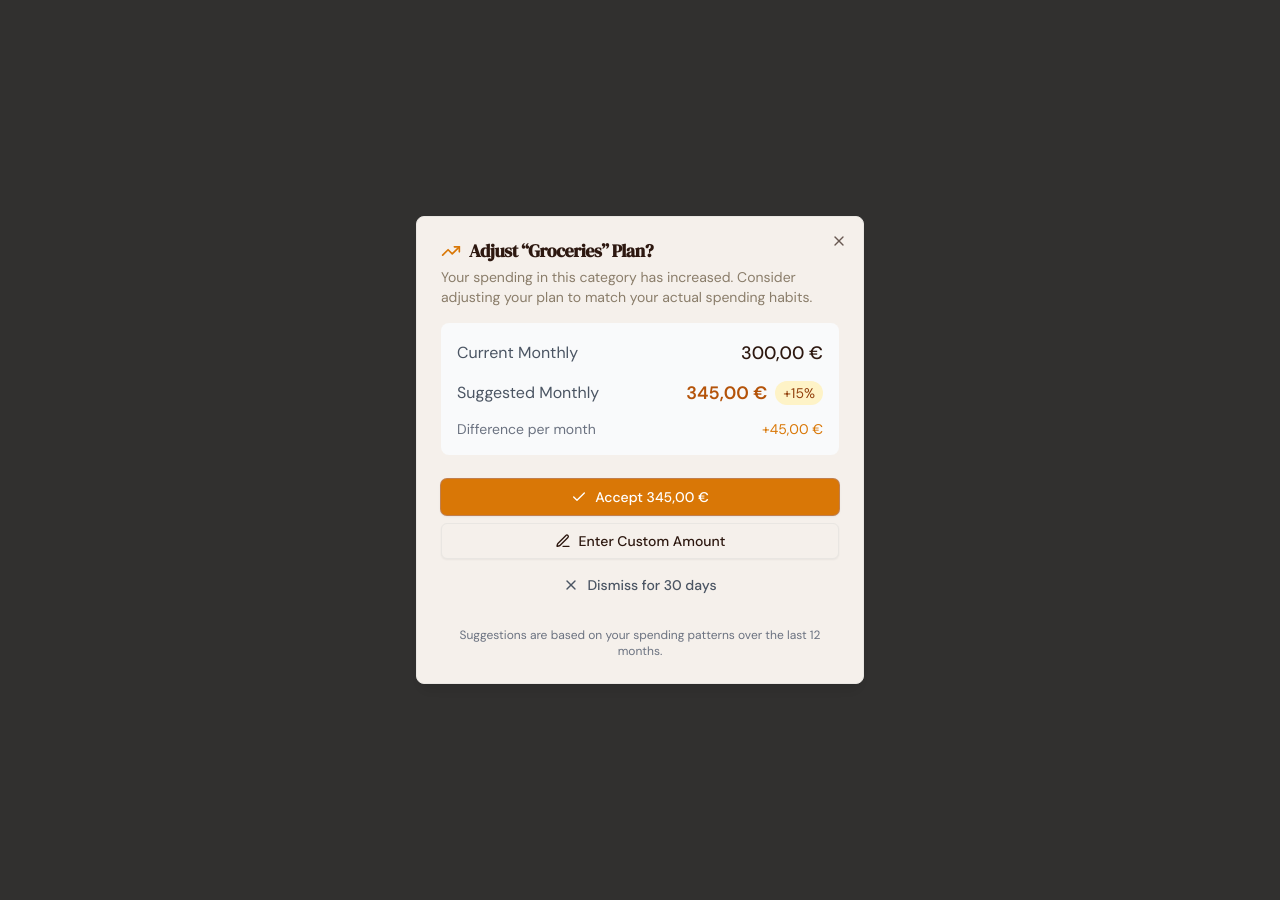
Test case: AdjustmentSuggestionModal › custom amount › should show error for invalid custom amount
This screenshot has width=1280, height=900.
Click the button "Enter Custom Amount" at (640, 541), box top-left (441, 523), bottom-right (839, 559)
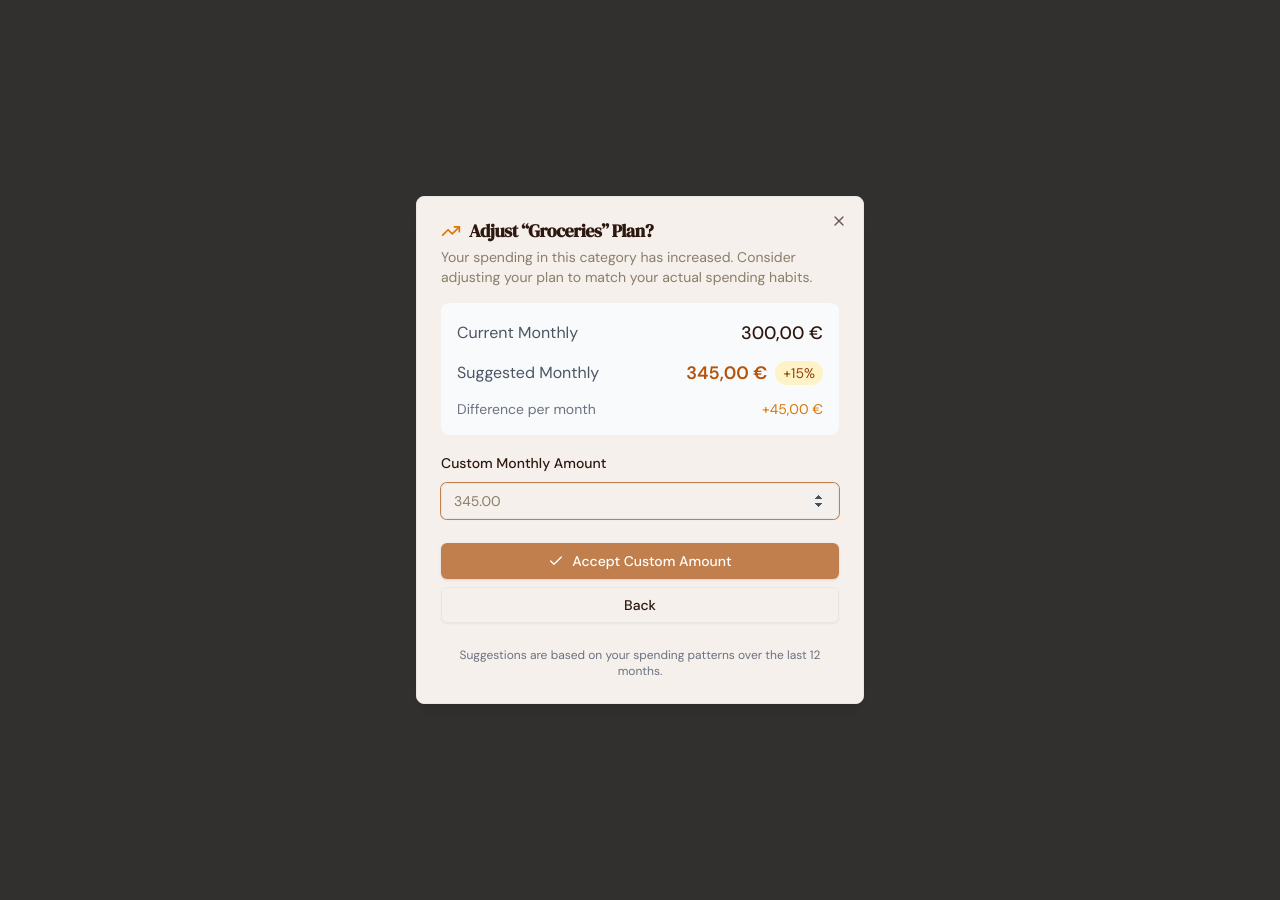
Click the button "Accept Custom Amount" at (640, 561), box top-left (441, 543), bottom-right (839, 579)
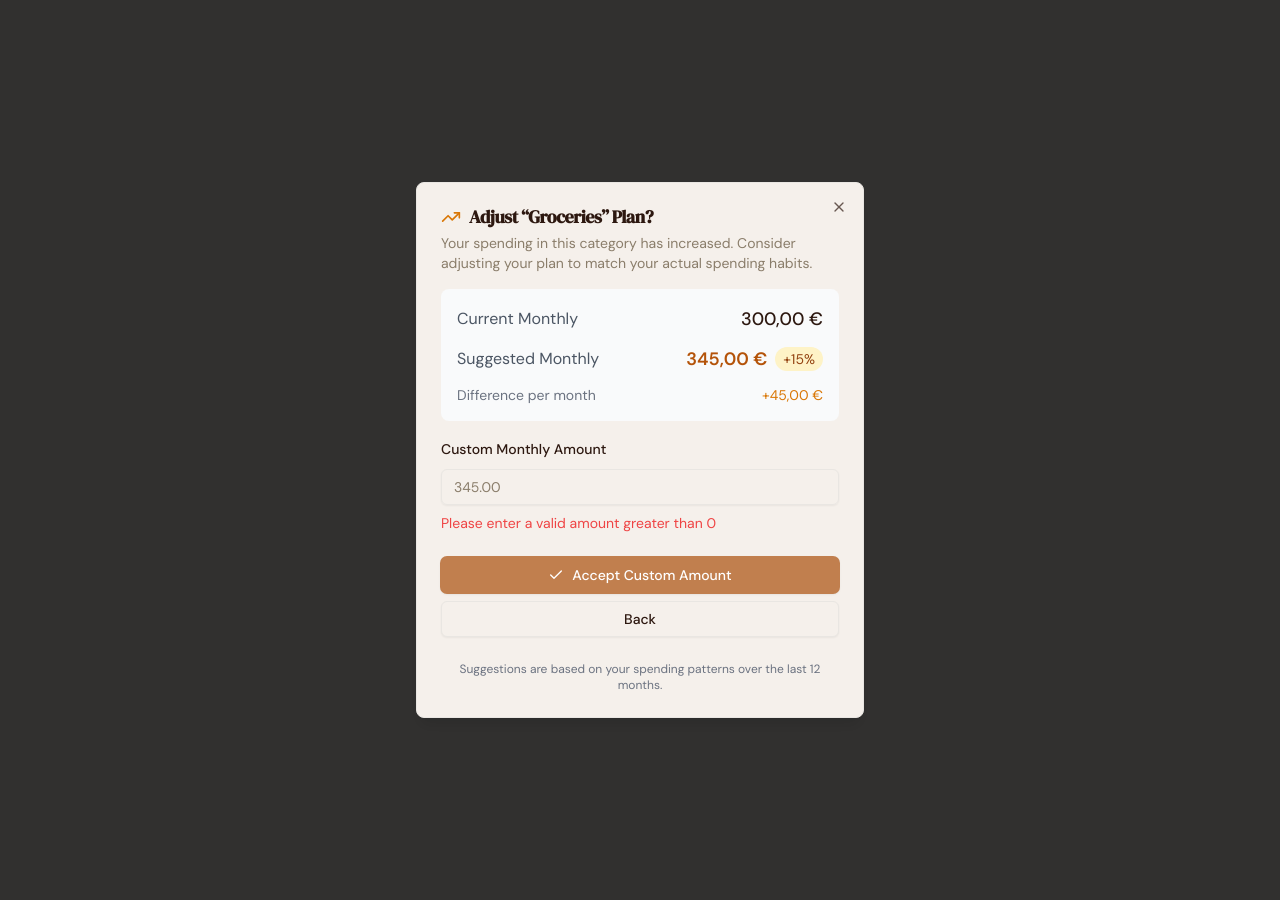
Expected: the text "Please enter a valid amount greater than 0" is shown, top-left (441, 514), bottom-right (716, 532)
